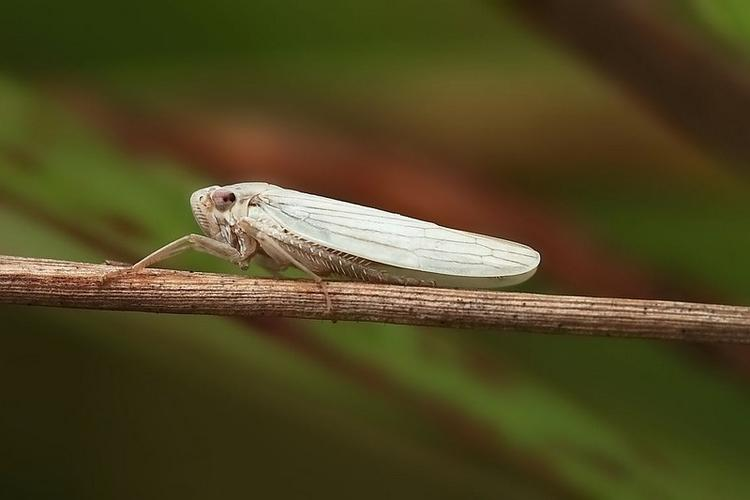Cicadellidae: (150, 183, 542, 289)
